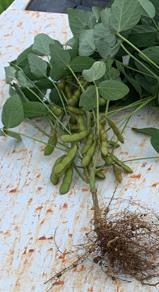soja: (56, 146, 79, 177), (40, 125, 60, 159), (58, 168, 79, 199), (111, 152, 136, 174), (50, 155, 66, 186), (82, 142, 100, 168), (110, 118, 126, 146), (100, 124, 111, 158), (80, 133, 95, 157), (63, 133, 91, 143), (112, 166, 126, 183), (68, 90, 82, 106), (108, 138, 122, 153), (68, 106, 87, 116), (50, 103, 63, 117), (64, 82, 74, 99), (103, 156, 116, 168), (94, 170, 108, 180), (79, 119, 89, 132), (68, 121, 79, 132), (96, 98, 112, 105)
